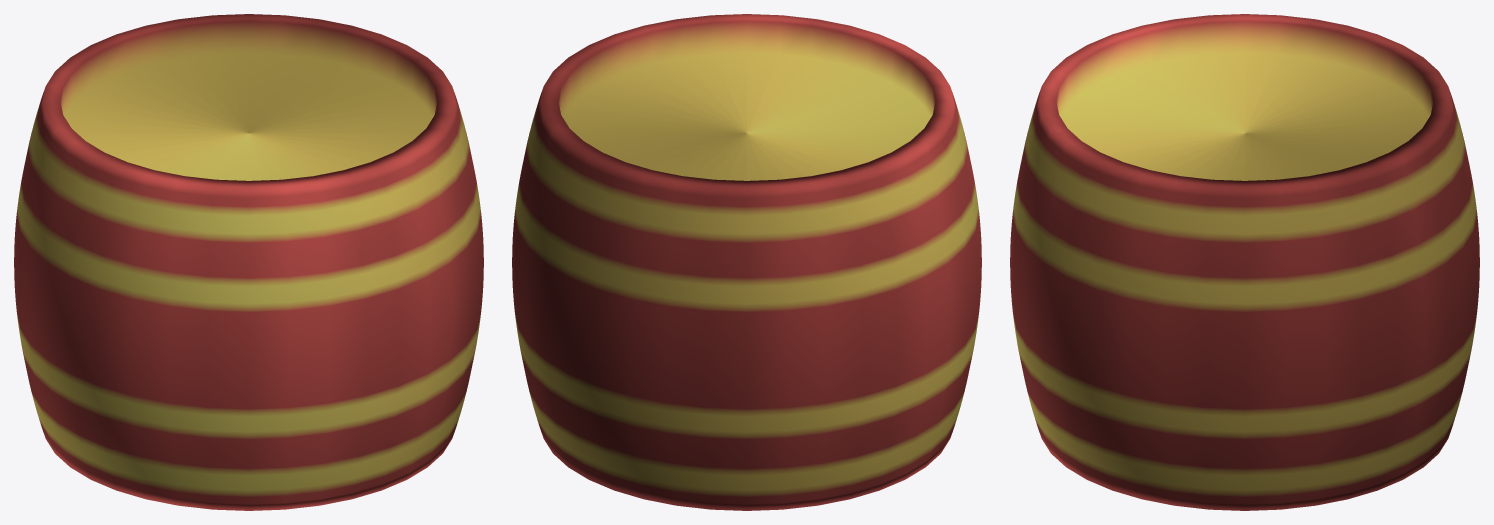
File: storybook-rain-barrel.glb
The picture shows the model from 3 angles, left to right: view 1: azimuth 30°, elevation 25°; view 2: azimuth 150°, elevation 25°; view 3: azimuth 270°, elevation 25°; orthographic projection.
Visible parts, largest first — view 1: storybook-rain-barrel; view 2: storybook-rain-barrel; view 3: storybook-rain-barrel.
Boxes of the visible parts, <box> form: storybook-rain-barrel: <box>14,14,483,510</box>; storybook-rain-barrel: <box>512,14,981,510</box>; storybook-rain-barrel: <box>1010,14,1479,510</box>.
Size of the model in its own units: 1.32 by 1 by 1.32.
